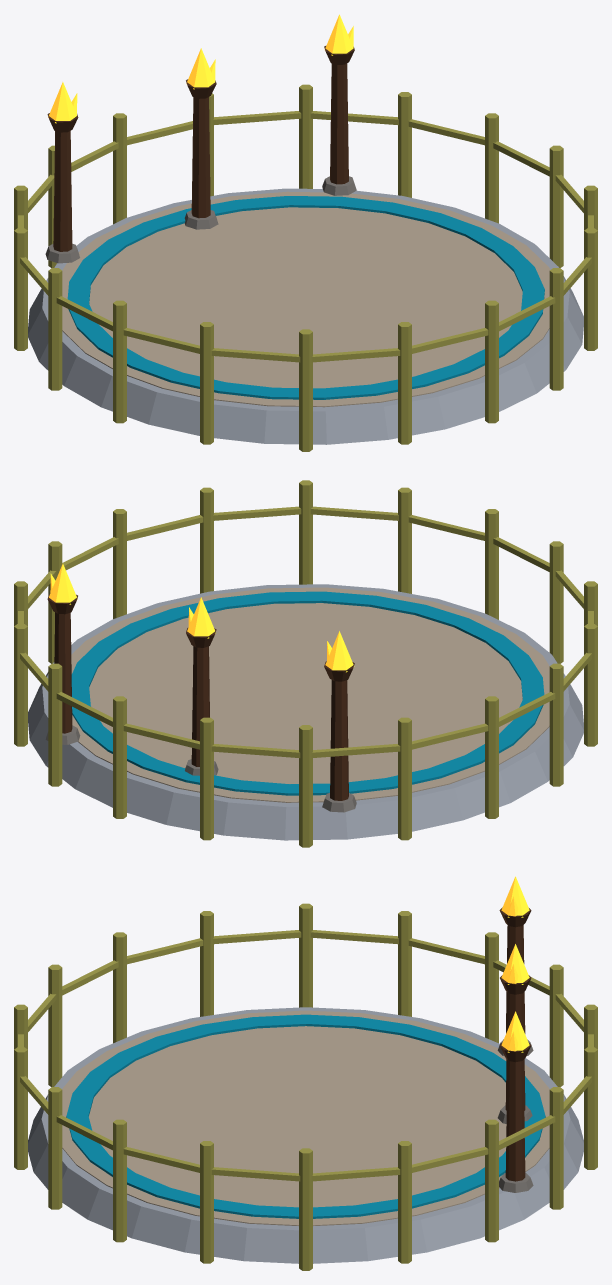
File: panggung_uji_v001.glb
The picture shows the model from 3 angles, top to bottom: view 1: azimuth 30°, elevation 25°; view 2: azimuth 150°, elevation 25°; view 3: azimuth 270°, elevation 25°; orthographic projection.
Parts seen in each view (by area): view 1: Arena_Uji, Pagar_Uji, Cincin_Aksen, Api_2_Nyala, Api_3_Nyala, Api_1_Nyala; view 2: Arena_Uji, Pagar_Uji, Cincin_Aksen, Api_2_Nyala, Api_3_Nyala, Api_1_Nyala; view 3: Arena_Uji, Pagar_Uji, Cincin_Aksen, Api_1_Nyala, Api_3_Nyala, Api_2_Nyala.
Boxes of the visible parts, x1=… form: Arena_Uji: x1=28, y1=46, x2=583, y2=444; Pagar_Uji: x1=14, y1=84, x2=597, y2=451; Cincin_Aksen: x1=67, y1=196, x2=544, y2=399; Api_2_Nyala: x1=186, y1=48, x2=215, y2=89; Api_3_Nyala: x1=324, y1=14, x2=353, y2=55; Api_1_Nyala: x1=48, y1=82, x2=77, y2=123; Arena_Uji: x1=28, y1=584, x2=583, y2=840; Pagar_Uji: x1=14, y1=480, x2=597, y2=847; Cincin_Aksen: x1=71, y1=591, x2=544, y2=795; Api_2_Nyala: x1=187, y1=597, x2=215, y2=638; Api_3_Nyala: x1=49, y1=563, x2=77, y2=604; Api_1_Nyala: x1=325, y1=631, x2=354, y2=672; Arena_Uji: x1=28, y1=907, x2=583, y2=1263; Pagar_Uji: x1=14, y1=903, x2=597, y2=1270; Cincin_Aksen: x1=66, y1=1014, x2=545, y2=1218; Api_1_Nyala: x1=501, y1=876, x2=529, y2=917; Api_3_Nyala: x1=501, y1=1011, x2=529, y2=1052; Api_2_Nyala: x1=501, y1=944, x2=529, y2=984.
Bounding box in the file's own units: 5.92 × 2.24 × 5.85.
